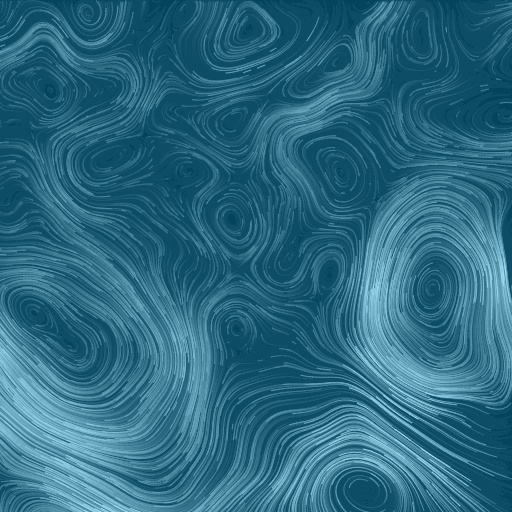eddy: (371, 208, 487, 375), (1, 280, 107, 382), (290, 132, 371, 212), (285, 42, 358, 103), (209, 1, 282, 60), (201, 188, 264, 251), (10, 58, 76, 118), (75, 133, 150, 185), (397, 5, 441, 67), (338, 468, 393, 511), (206, 96, 254, 145), (214, 307, 257, 354), (308, 253, 346, 299), (65, 1, 108, 34)
